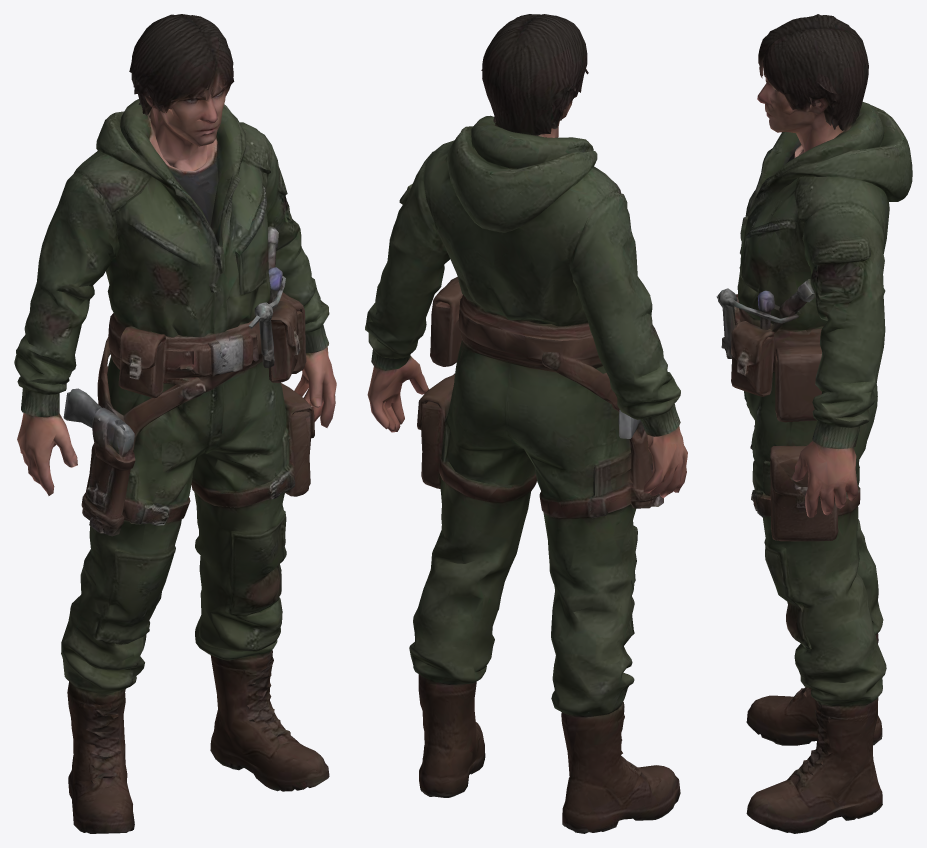
Rendered from char_f_military_b_idle.glb.
3 views of the same model, side by side, from view 1: azimuth 30°, elevation 25°; view 2: azimuth 150°, elevation 25°; view 3: azimuth 270°, elevation 25° (orthographic). The views are drawn at different scales.
Visible parts, largest first — view 1: tripo_node_f5a6e205-88a5-4e57-b0b8-0c34348fedae; view 2: tripo_node_f5a6e205-88a5-4e57-b0b8-0c34348fedae; view 3: tripo_node_f5a6e205-88a5-4e57-b0b8-0c34348fedae.
Part boxes in pixels (bbox=[...]): tripo_node_f5a6e205-88a5-4e57-b0b8-0c34348fedae: bbox=[14, 14, 336, 833]; tripo_node_f5a6e205-88a5-4e57-b0b8-0c34348fedae: bbox=[365, 14, 687, 833]; tripo_node_f5a6e205-88a5-4e57-b0b8-0c34348fedae: bbox=[716, 14, 912, 833].
Size of the model in its own units: 0.6909 by 1.68 by 0.3929.
Materials: 1 (1 with a texture image).
